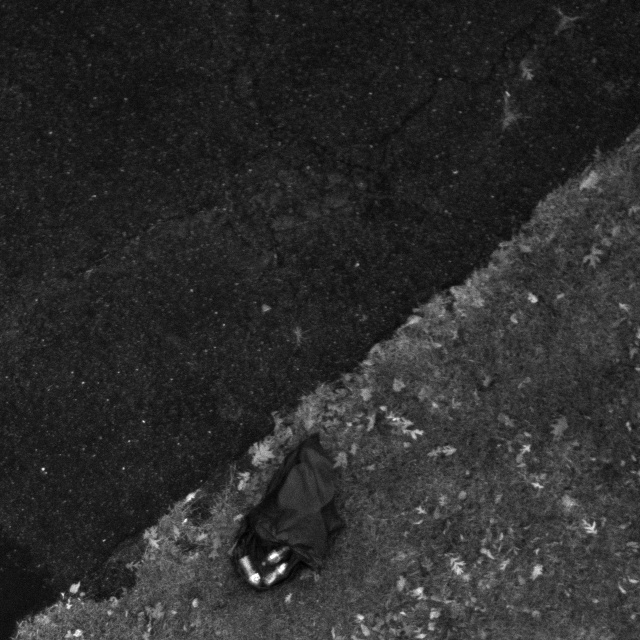bottle: (232, 549, 267, 599)
